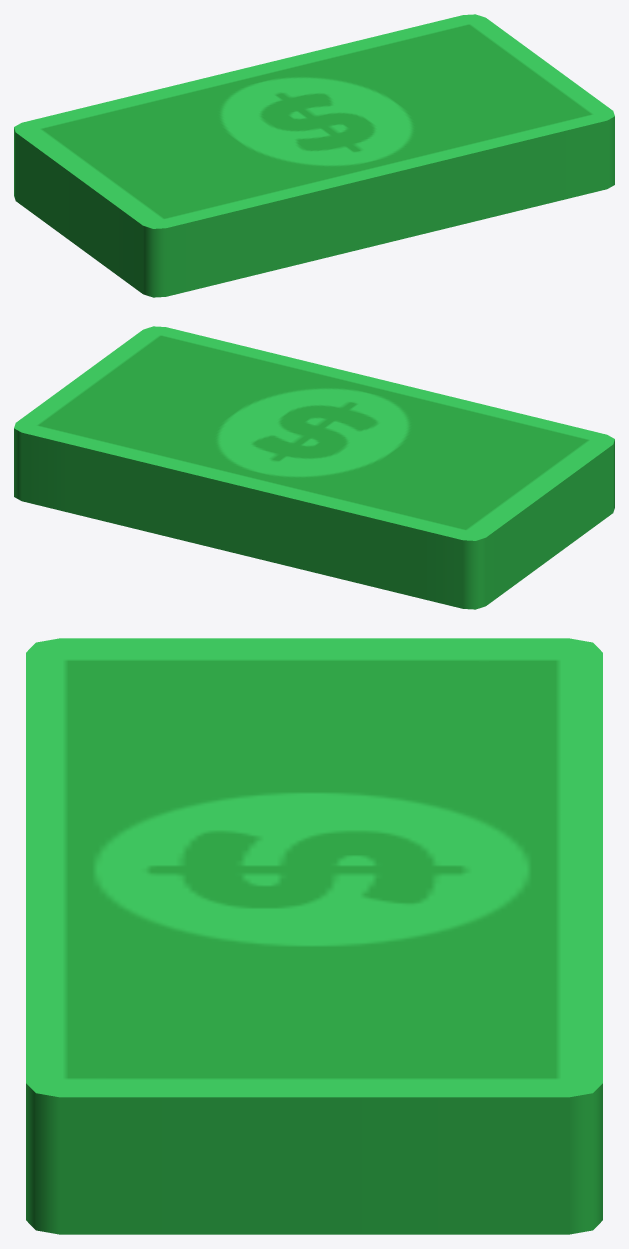
The model's file is money_mesh.fbx.
3 views of the same model, one above another, from view 1: azimuth 30°, elevation 25°; view 2: azimuth 150°, elevation 25°; view 3: azimuth 270°, elevation 25° (orthographic). The views are drawn at different scales.
Visible parts, largest first — view 1: money_mesh; view 2: money_mesh; view 3: money_mesh.
Part boxes in pixels (x1,y1,x2,y2): money_mesh: [14, 14, 614, 297]; money_mesh: [14, 326, 614, 609]; money_mesh: [26, 638, 602, 1234].
Size of the model in its own units: 6.51 by 0.9086 by 3.46.
